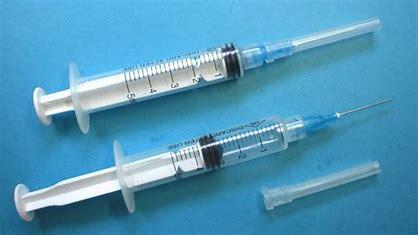Syringe: (3, 92, 403, 209), (23, 14, 389, 98)
